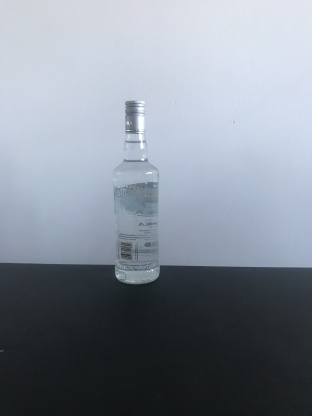nakretka: (123, 98, 147, 135)
